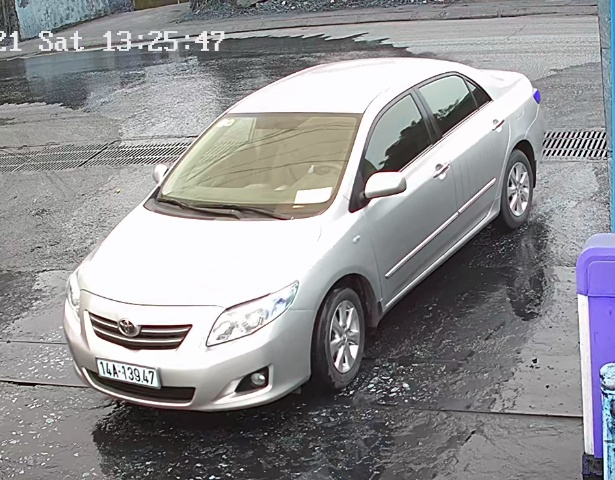vehicle plate: (87, 352, 166, 391)
